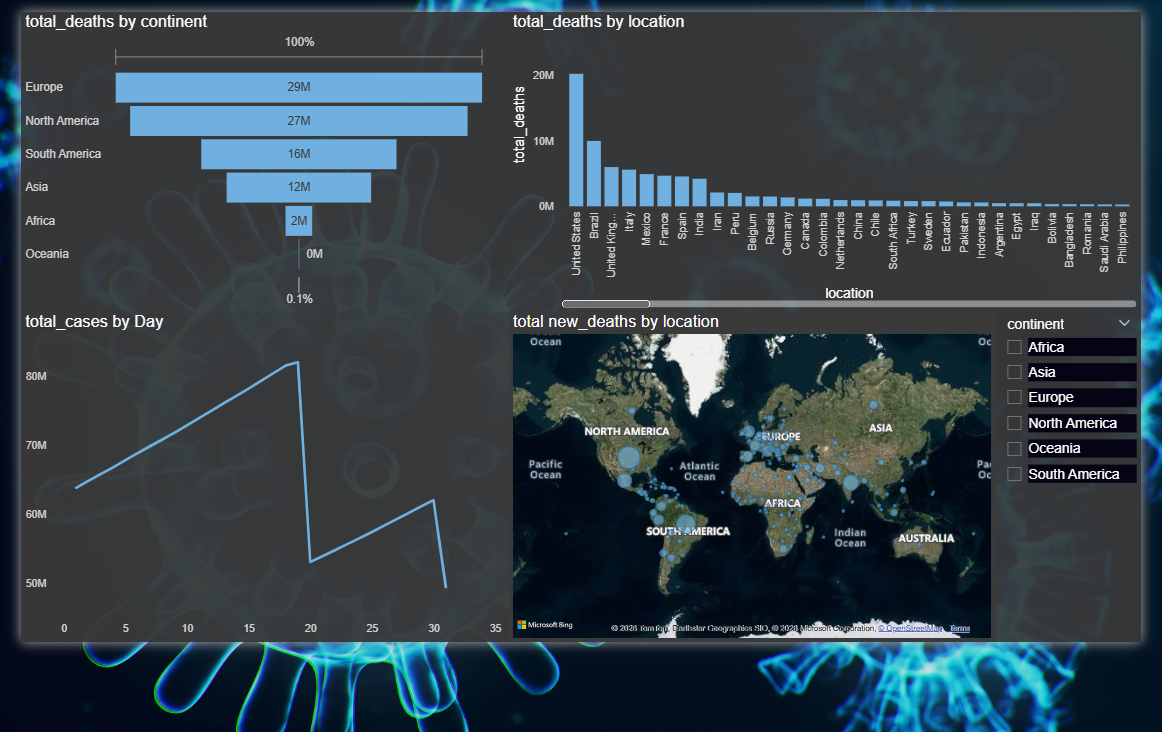

The dashboard page shown, as its layout file describes it:
{"tool":"powerbi","page":{"name":"Page 2","canvas":[1280,720],"ordinal":1},"visuals":[{"type":"lineChart","fields":{"Category":["owid-covid-data (2).date.Variation.Date Hierarchy.Day"],"Y":["Sum(owid-covid-data (2).total_cases)"]},"box":[0,343.1,557.1,377.4],"z":0},{"type":"map","fields":{"Category":["owid-covid-data (2).location"],"Size":["Sum(owid-covid-data (2).new_deaths)"]},"box":[557.1,343.1,557.1,377.4],"z":1},{"type":"slicer","fields":{"Values":["owid-covid-data (2).continent"]},"box":[1114.3,342.9,165.7,377.1],"z":2},{"type":"columnChart","fields":{"Category":["owid-covid-data (2).location"],"Y":["Sum(owid-covid-data (2).total_deaths)"]},"box":[557.1,0,722.9,342.9],"z":4},{"type":"funnel","fields":{"Category":["owid-covid-data (2).continent"],"Y":["Sum(owid-covid-data (2).total_deaths)"]},"box":[0,0,537.1,342.9],"z":5}]}

Visuals, with their boxes on the page's 1280x720 design canvas (x1, y1, x2, y2). These are canvas units, not pixel positions in the 1162x732 screenshot, which may show the page scaled, cropped or inside an application window:
lineChart - owid-covid-data (2).date.Variation.Date Hierarchy.Day x Sum(owid-covid-data (2).total_cases): BBox(0, 343, 557, 720)
map - owid-covid-data (2).location x Sum(owid-covid-data (2).new_deaths): BBox(557, 343, 1114, 720)
slicer - owid-covid-data (2).continent: BBox(1114, 343, 1280, 720)
columnChart - owid-covid-data (2).location x Sum(owid-covid-data (2).total_deaths): BBox(557, 0, 1280, 343)
funnel - owid-covid-data (2).continent x Sum(owid-covid-data (2).total_deaths): BBox(0, 0, 537, 343)
